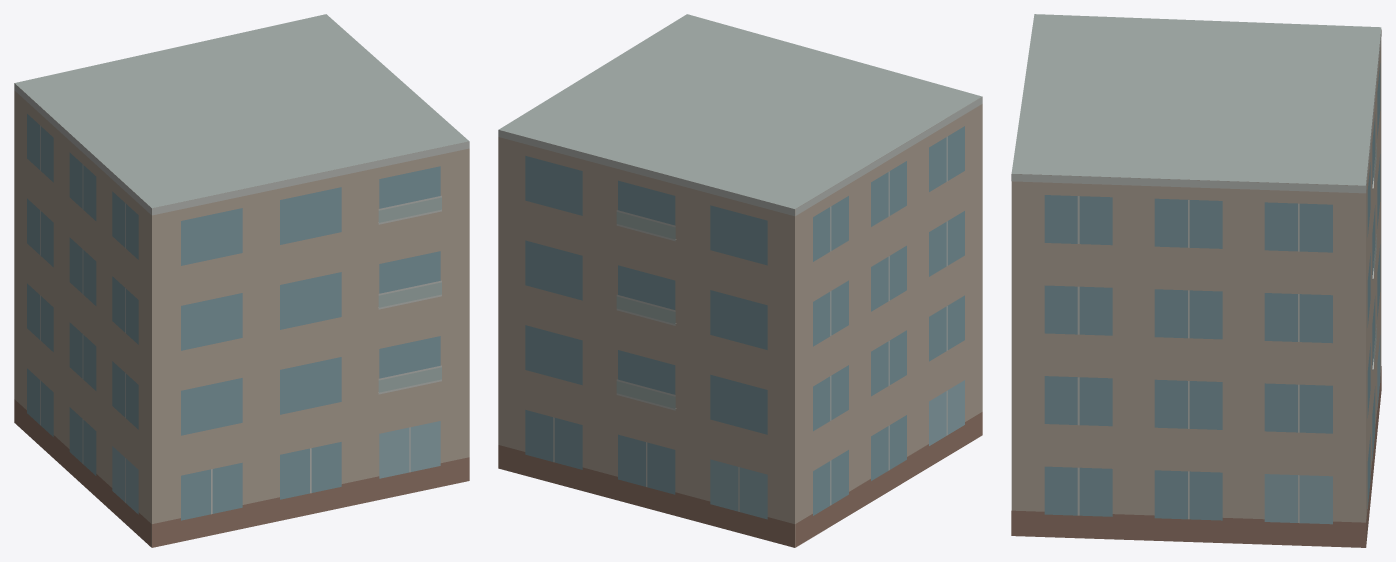
The model's file is survey-upis-32498867.glb.
3 renders of one model, left to right at view 1: azimuth 30°, elevation 25°; view 2: azimuth 150°, elevation 25°; view 3: azimuth 270°, elevation 25°, orthographic. The views are drawn at different scales.
Parts seen in each view (by area): view 1: survey-upis-32498867.tmp; view 2: survey-upis-32498867.tmp; view 3: survey-upis-32498867.tmp.
Part boxes in pixels (bbox=[...]): survey-upis-32498867.tmp: bbox=[14, 14, 469, 547]; survey-upis-32498867.tmp: bbox=[498, 14, 982, 547]; survey-upis-32498867.tmp: bbox=[1011, 14, 1381, 547].
Bounding box in the file's own units: 11.7 × 11.5 × 10.66.
